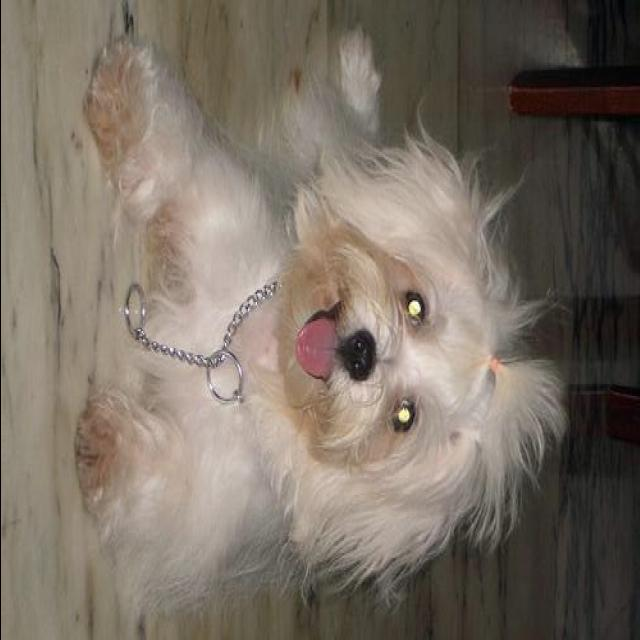maltese_dog: (74, 28, 567, 618)
